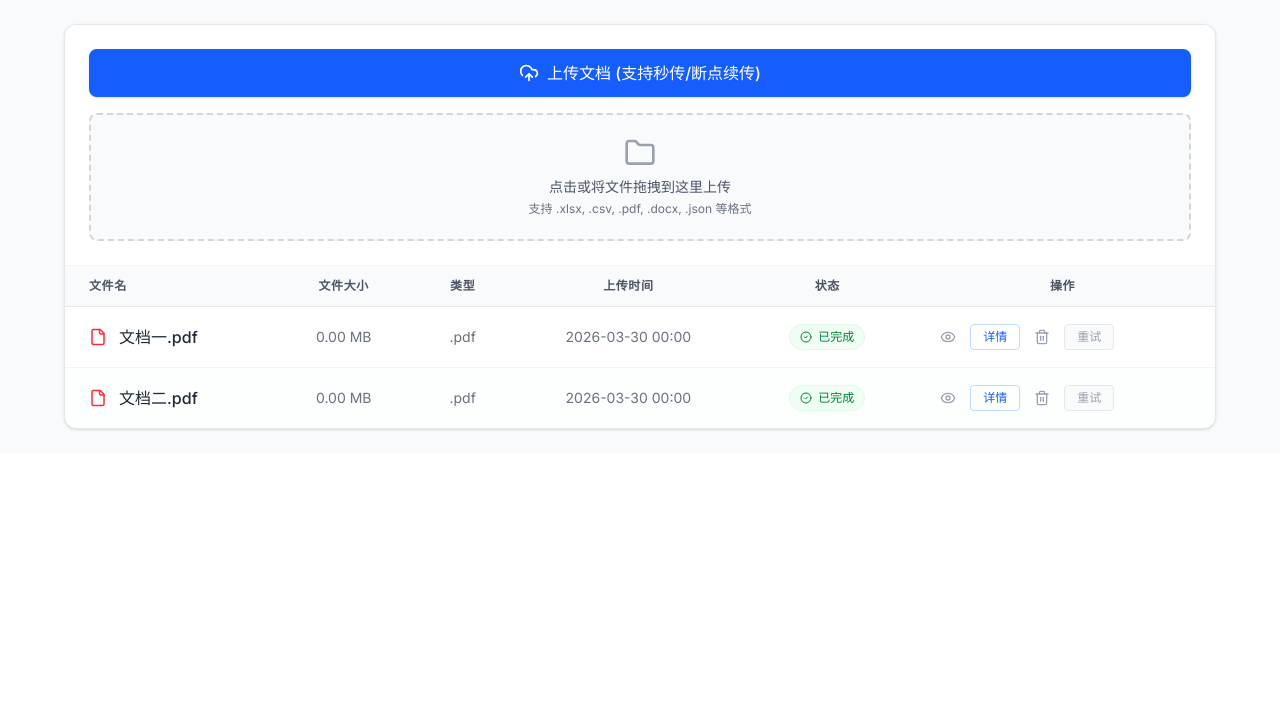
Scenario: DocumentListPanel preview integration › keeps latest legacy preview result when switching documents quickly
The width and height of the screenshot is (1280, 720).
Click the button named "预览" in the row of "文档一.pdf": (948, 337) top-left (934, 323), bottom-right (962, 351)
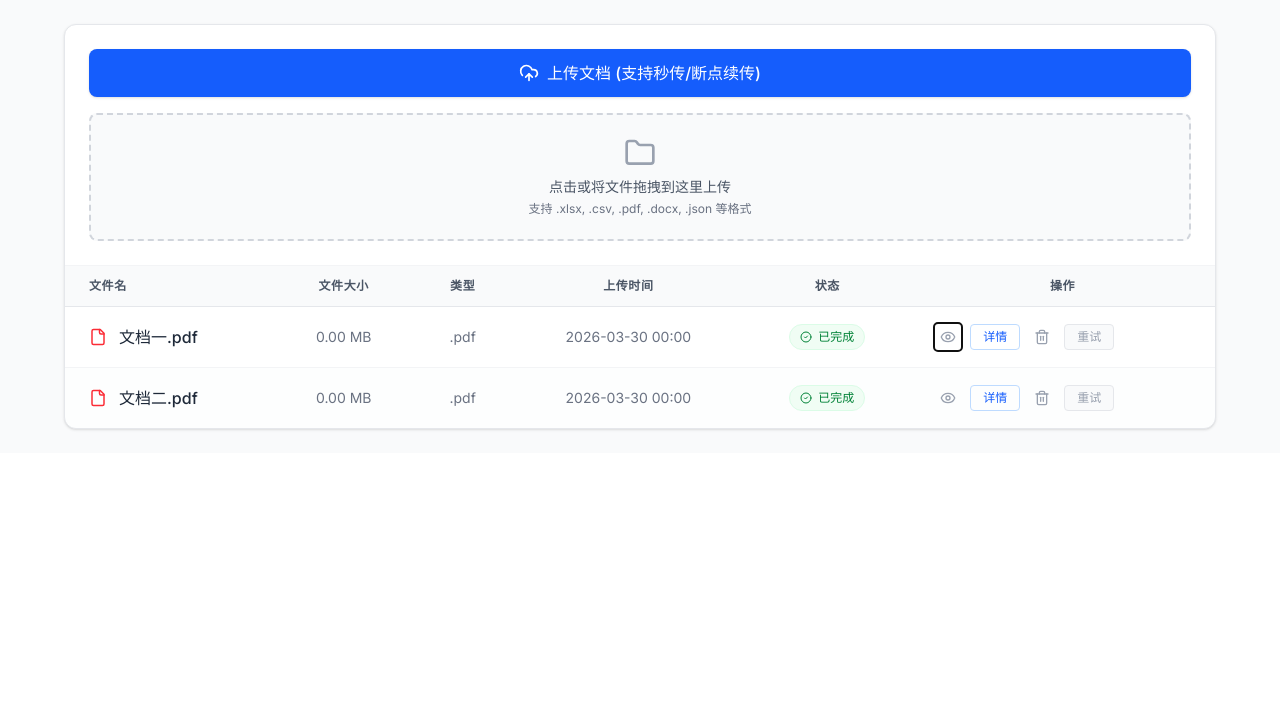
Click the button named "预览" in the row of "文档二.pdf": (948, 398) top-left (934, 384), bottom-right (962, 412)
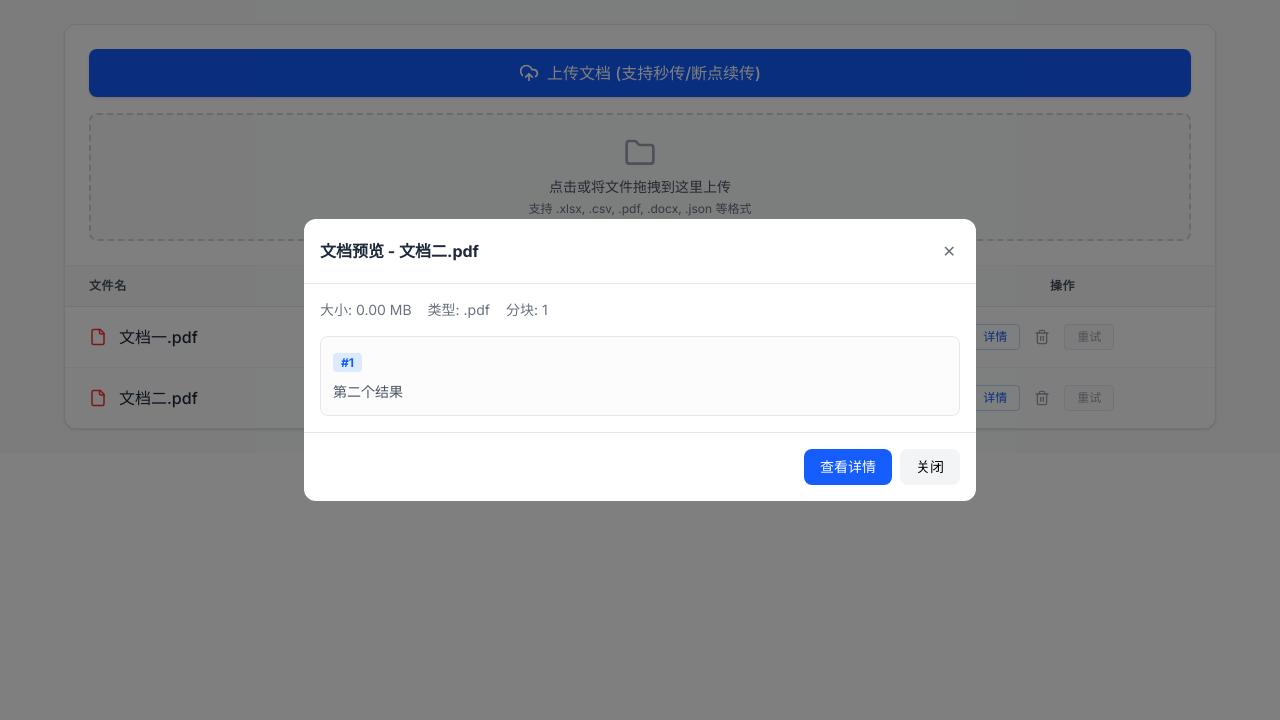
Expected: the element with test id "legacy-preview-modal-surface" is shown, top-left (304, 219), bottom-right (976, 501)
Expected: the text "第二个结果" is shown, top-left (333, 383), bottom-right (403, 400)
Expected: the heading "文档预览 - 文档二.pdf" is shown, top-left (320, 239), bottom-right (479, 263)
